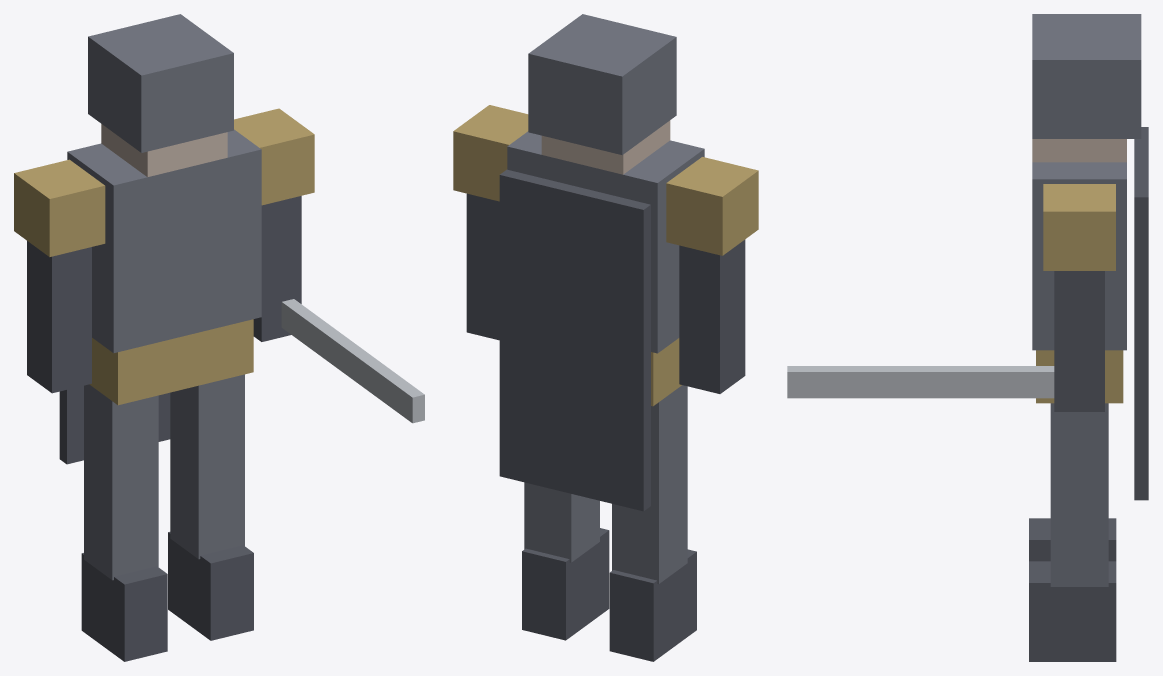
File: kaelen_enforcer.glb
The picture shows the model from 3 angles, left to right: view 1: azimuth 30°, elevation 25°; view 2: azimuth 150°, elevation 25°; view 3: azimuth 270°, elevation 25°; orthographic projection. The views are drawn at different scales.
Parts seen in each view (by area): view 1: kaelen_enforcer; view 2: kaelen_enforcer; view 3: kaelen_enforcer.
Part boxes in pixels (x1,y1,x2,y2): kaelen_enforcer: (14, 14, 424, 661); kaelen_enforcer: (453, 14, 758, 661); kaelen_enforcer: (787, 14, 1148, 661).
Size of the model in its own units: 0.8944 by 1.87 by 1.03.
